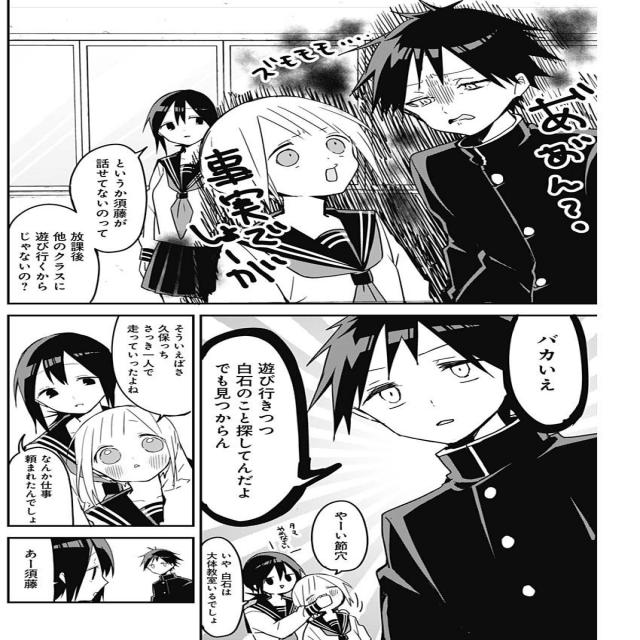Bubble: (198, 326, 309, 528), (5, 202, 102, 306), (68, 143, 148, 254), (110, 313, 193, 417), (5, 446, 74, 528), (198, 536, 245, 638), (311, 499, 370, 572), (7, 538, 57, 604)
